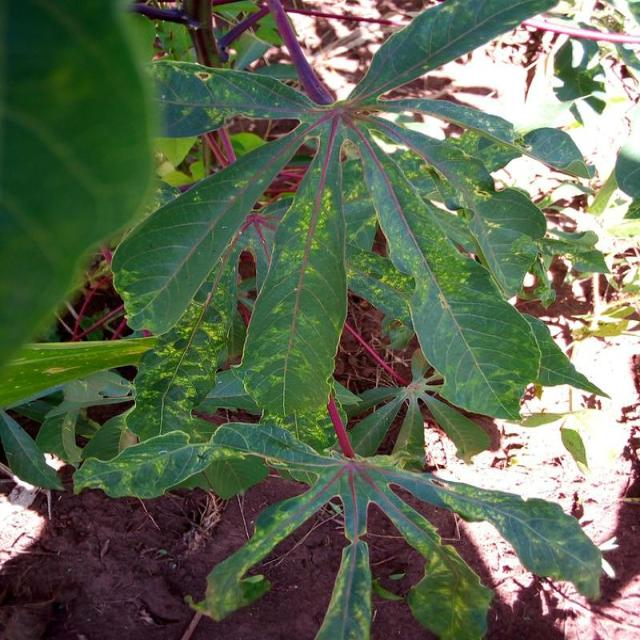cassava leaf: (65, 0, 609, 637)
